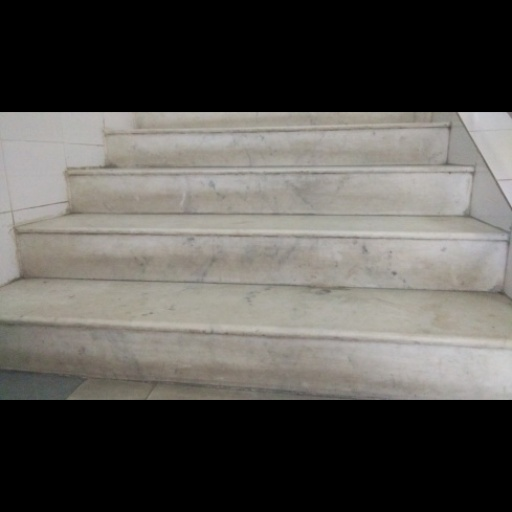Stairs: (0, 113, 512, 398)
